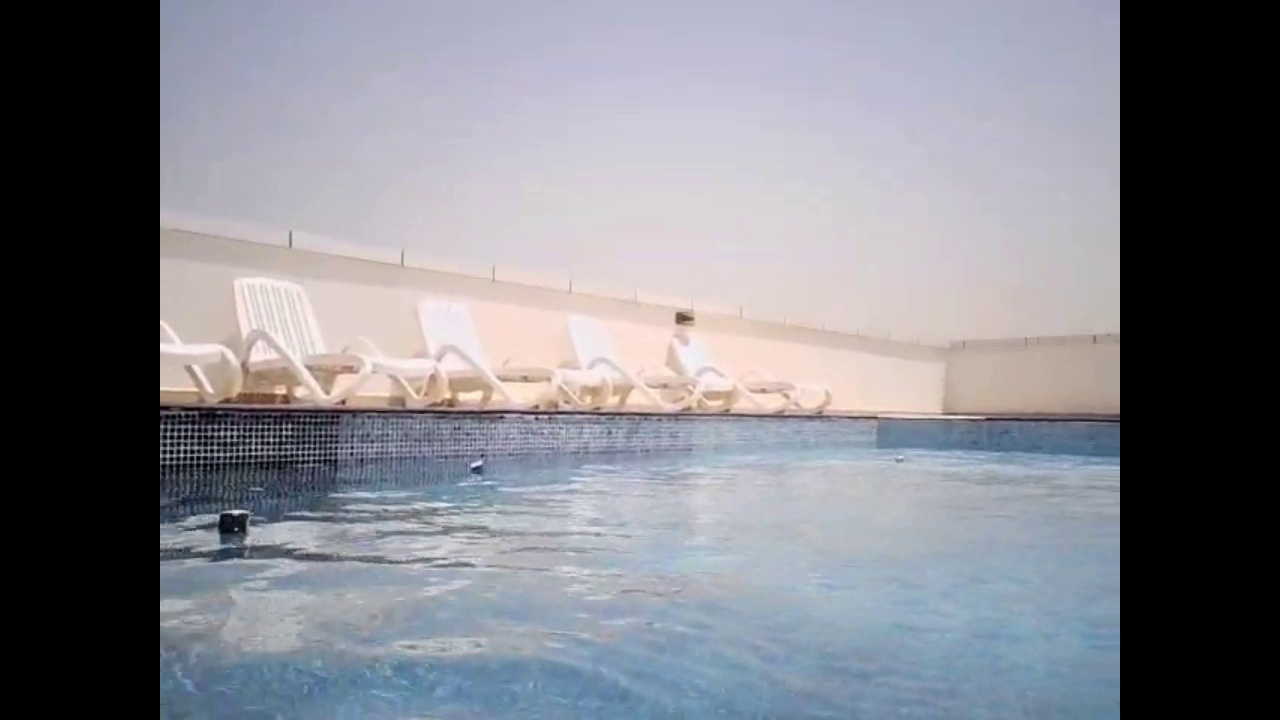debris: (215, 503, 255, 559), (466, 458, 491, 483), (890, 453, 906, 465)
